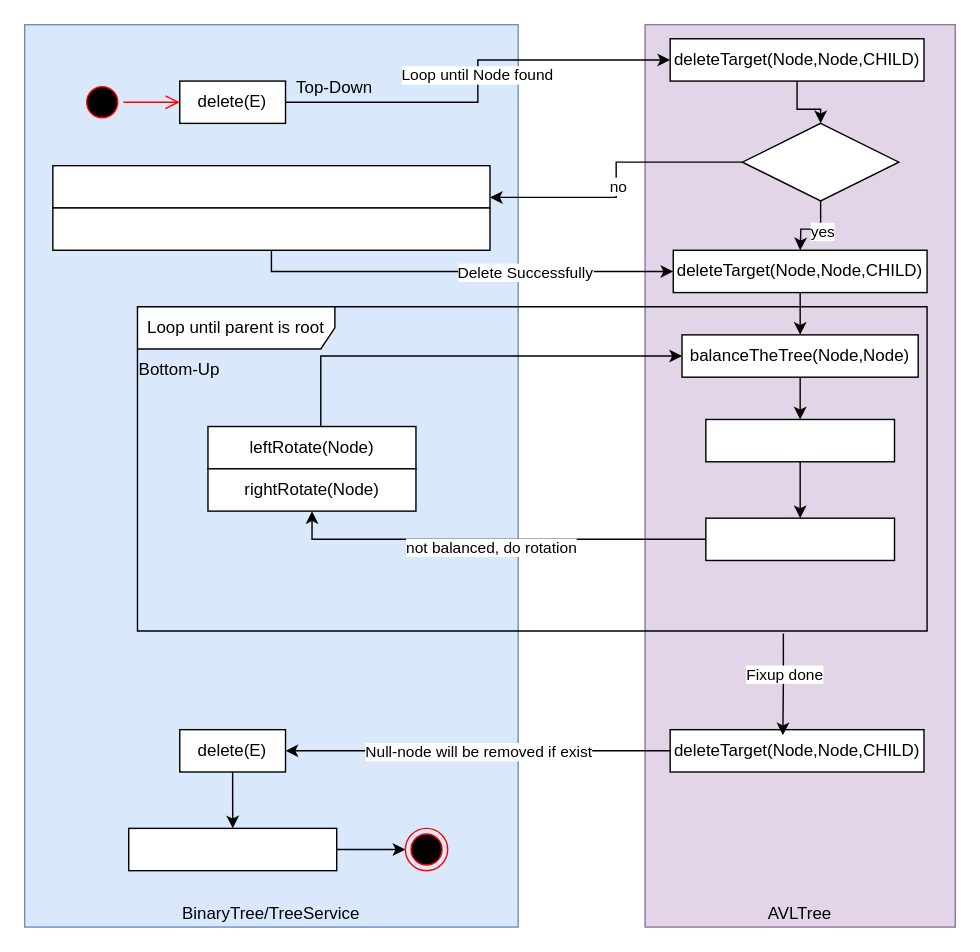
This 980x952 diagram has some shape labels left out. The centre of each missing label's shape, as x and y in pixels:
"deleteTargetWithOneChildOrNone(Node,Node,CHILD)" belongs at pixel 270 228.
"getBalanceFactor(Node)" belongs at pixel 799 538.
"only one node?" belongs at pixel 820 161.
"removeNullNode(Node)" belongs at pixel 232 849.
"replaceWithTheSmallestOfRightChildren(Node)" belongs at pixel 270 186.
"updateHeight(Node)" belongs at pixel 799 440.
